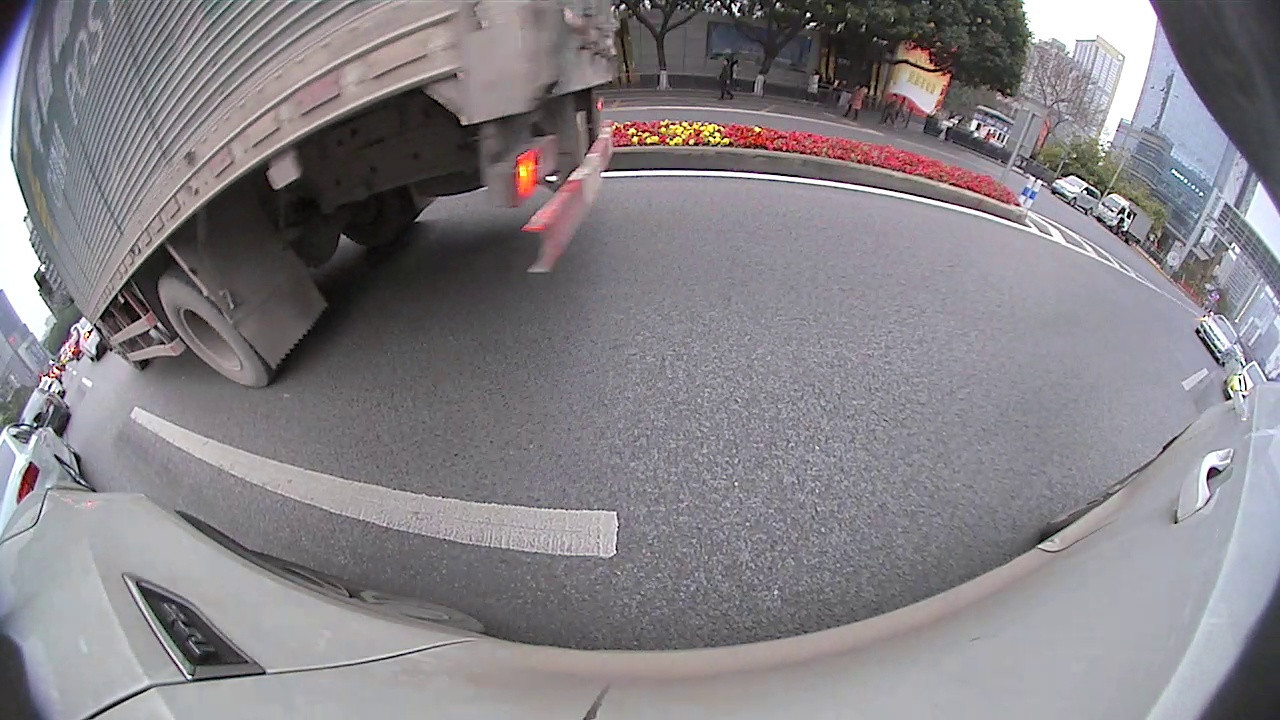car: (3, 427, 92, 524), (18, 388, 71, 436), (1053, 171, 1102, 216), (1199, 313, 1239, 366), (71, 320, 108, 364), (1226, 366, 1268, 400)
rear: (158, 275, 271, 387)
truck: (11, 4, 617, 388), (1096, 191, 1156, 249)
